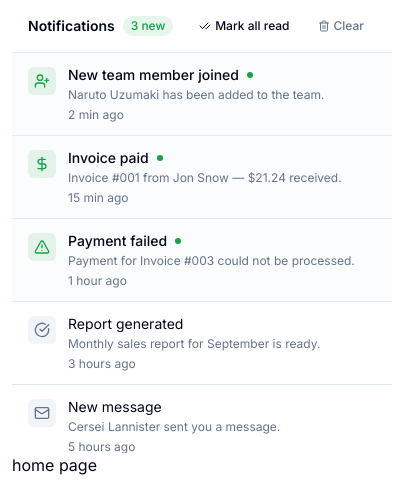
Scenario: NotificationsPanel › clears all notifications and shows the empty state
This screenshot has width=409, height=492.
Click the button "Clear" at (341, 26), box [306,12,376,40]
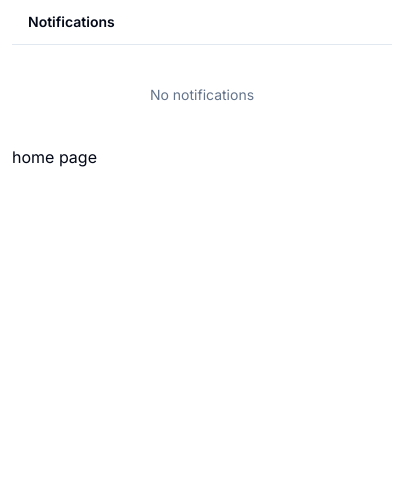
Expected: the text "No notifications" is shown, [150,86,254,103]
Expected: the button "Clear" is gone
